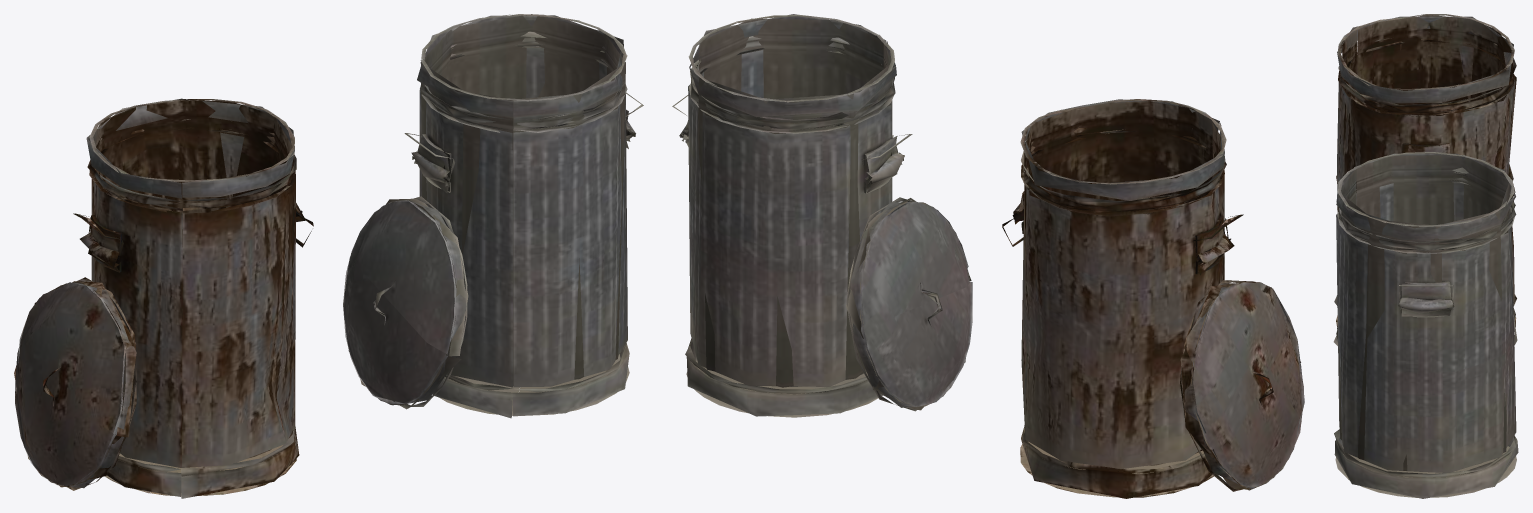
File: ph_metal_trash_can.glb
The picture shows the model from 3 angles, left to right: view 1: azimuth 30°, elevation 25°; view 2: azimuth 150°, elevation 25°; view 3: azimuth 270°, elevation 25°; orthographic projection. The views are drawn at different scales.
Visible parts, largest first — view 1: metal_trash_can_handle_left; view 2: metal_trash_can_handle_left; view 3: metal_trash_can_handle_left.
Part boxes in pixels (left/top/right/bottom): metal_trash_can_handle_left: left=14, top=14, right=643, bottom=498; metal_trash_can_handle_left: left=672, top=14, right=1304, bottom=498; metal_trash_can_handle_left: left=1333, top=14, right=1518, bottom=498.
Size of the model in its own units: 1.77 by 0.9072 by 0.562.
Materials: 3 (3 with a texture image).
